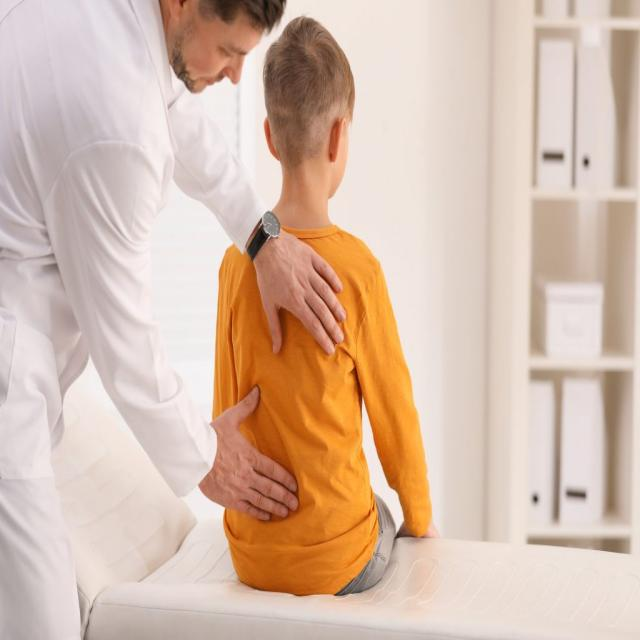adult: (0, 0, 347, 640)
child: (214, 18, 444, 594)
